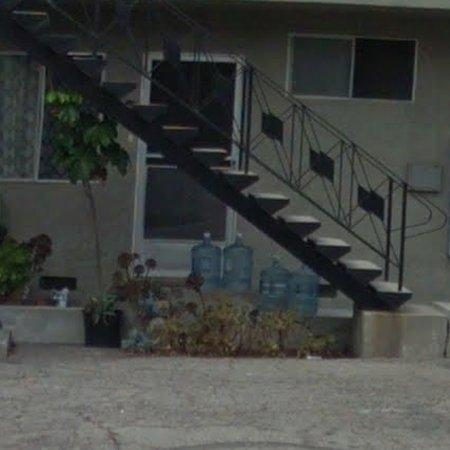stairs: (0, 0, 414, 310)
